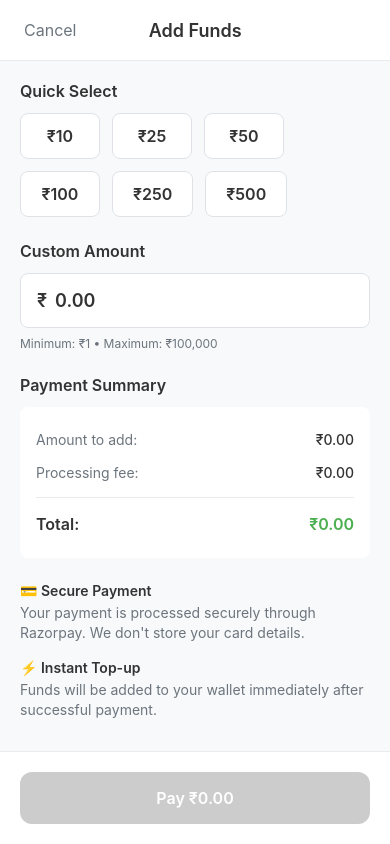
TopUpModal › should validate amount input - only allow numeric values
This screenshot has width=390, height=844.
Try to enter non-numeric characters
In the field with placeholder "0.00": (204, 300) [55,278,353,323], type "abc123"
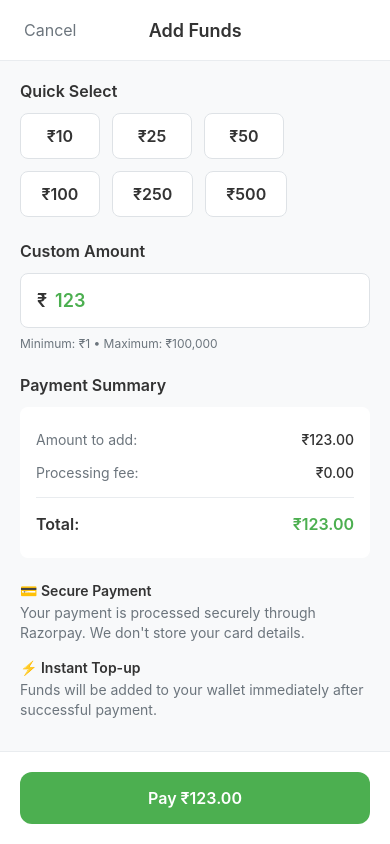
Expected: the field with placeholder "0.00" holds "123", [55,278,353,323]
